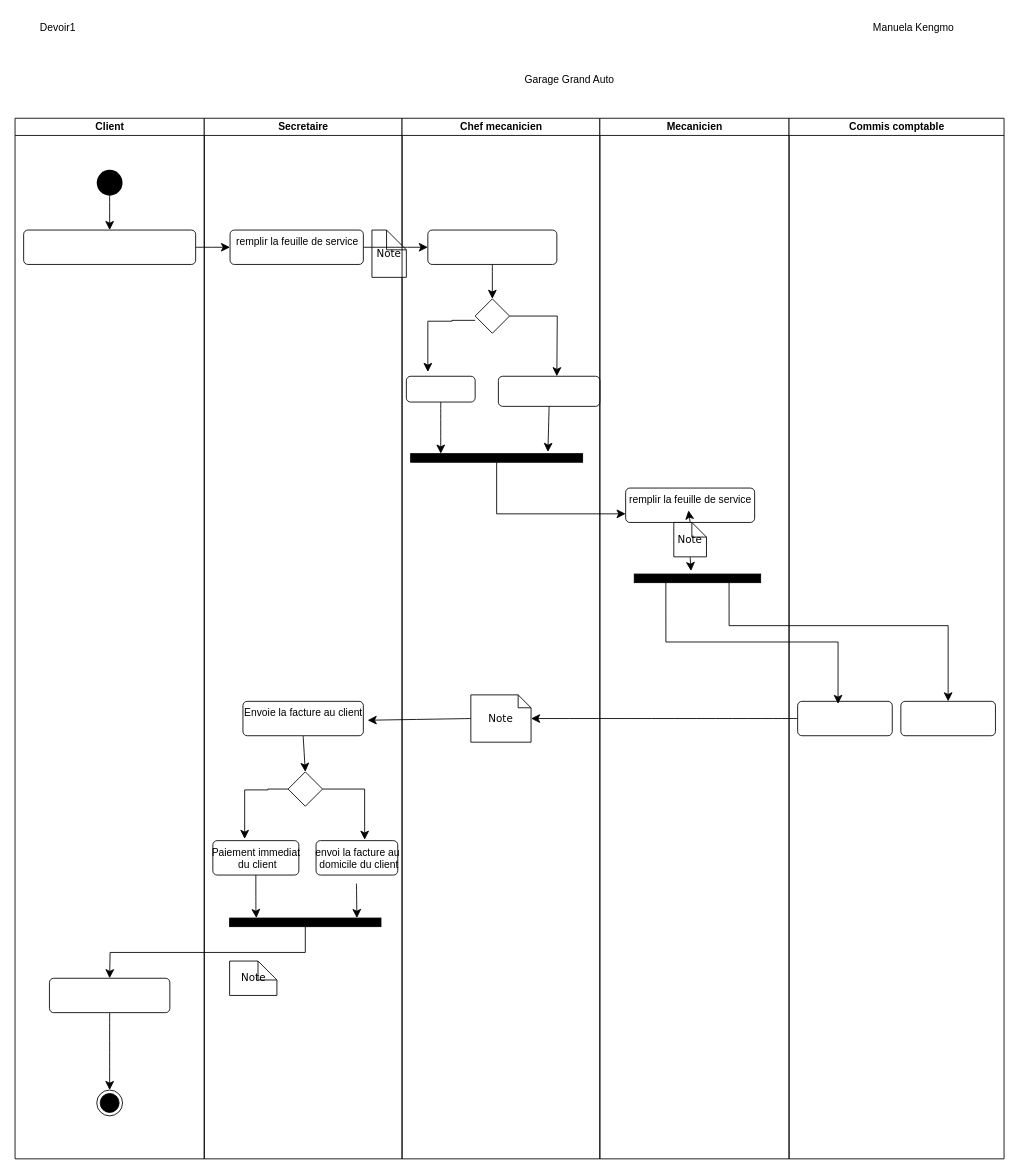
Image size: 1019x1174. Some labels were removed from this diagram. The shapes that lost their labels are listed below. From the top down, each one's centre as x and y in pixels, then its label:
At (x=109, y=246): "Client se presente pour un service".
At (x=492, y=246): "evaluation rapide du travail".
At (x=440, y=388): "un mecanicien".
At (x=549, y=390): "plusieurs mecaniciens".
At (x=844, y=718): "produire la facture".
At (x=947, y=718): "Classer la feuille".
At (x=109, y=995): "recoit la facture".
